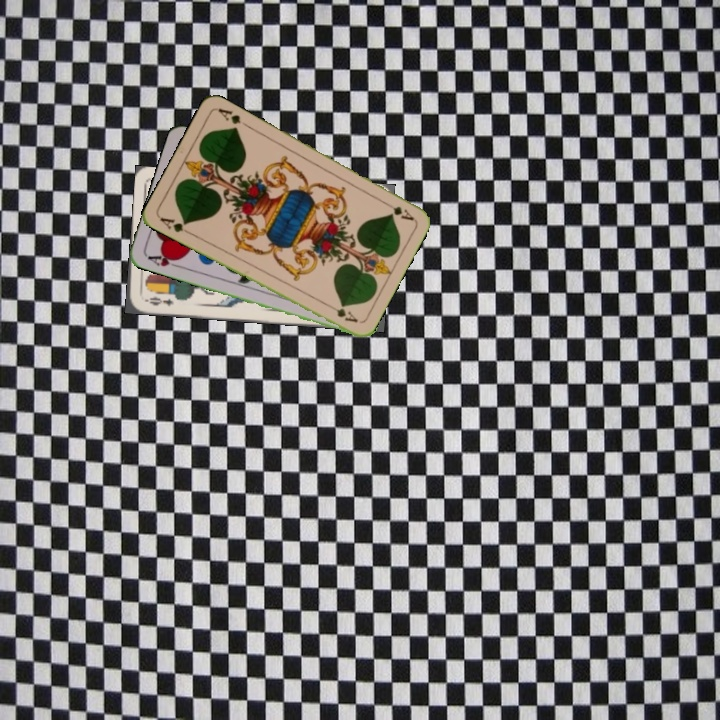EO: (140, 293, 176, 309)
GA: (379, 197, 416, 223), (156, 213, 194, 237)
HA: (143, 249, 183, 271)
